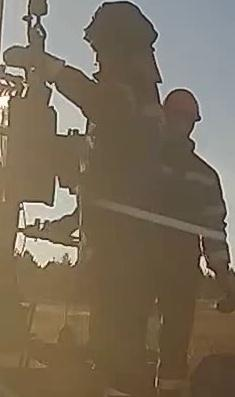gloves: (4, 45, 67, 86), (207, 260, 235, 315)
helmet: (163, 88, 202, 124)
vest: (84, 89, 159, 276), (148, 146, 208, 288)
